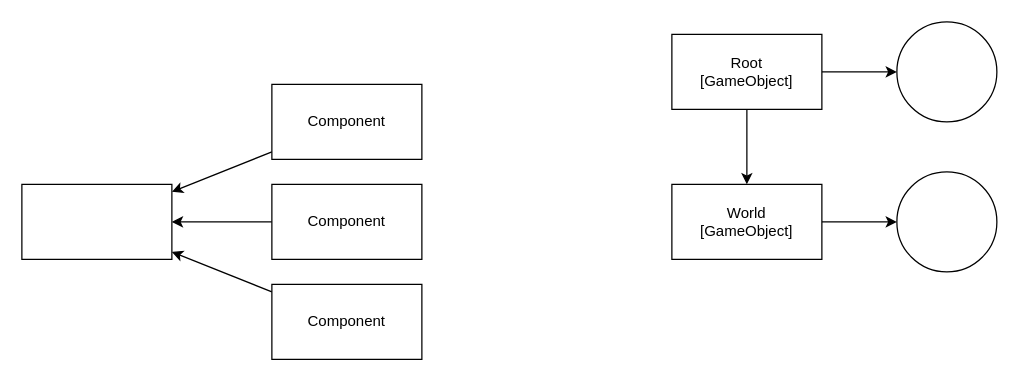
Some shapes in this 1019 by 381 pixel diagram are drawn without their labels. Here are the shapes that lost their labels. From the top down, the centre of each, then its label:
point 946,71: UI Layer
point 96,221: GameObject
point 946,221: Camera controlls
